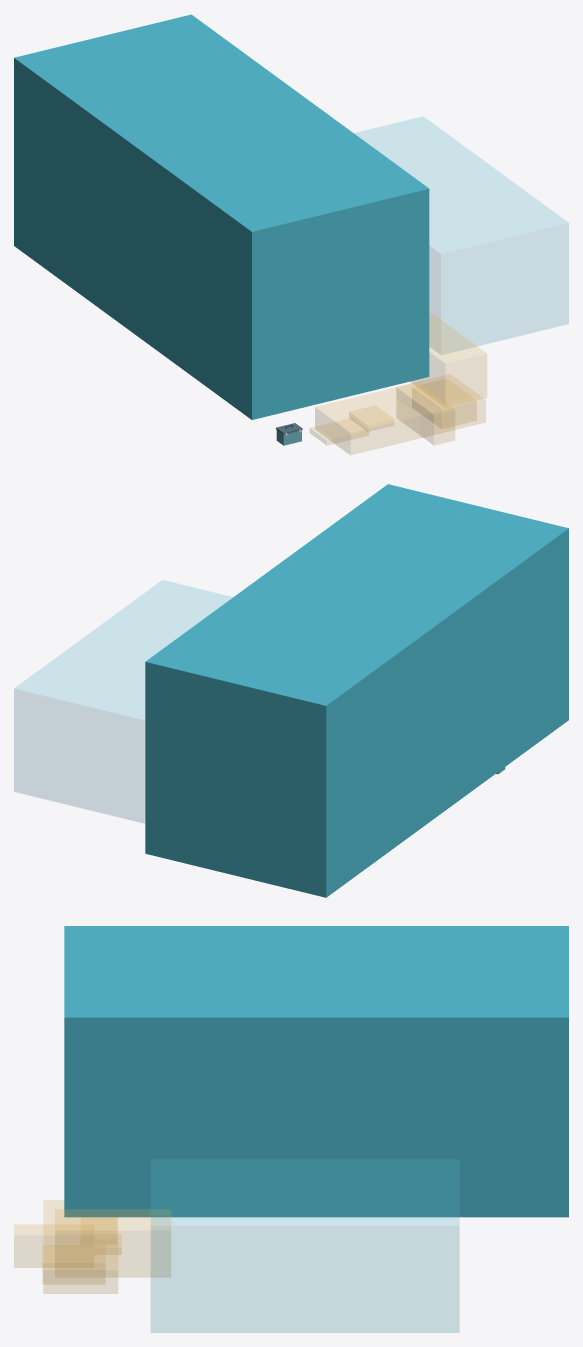
The model's file is twin-laboratory-asset-scene.gltf.
3 renders of one model, top to bottom at view 1: azimuth 30°, elevation 25°; view 2: azimuth 150°, elevation 25°; view 3: azimuth 270°, elevation 25°, orthographic. The views are drawn at different scales.
Visible parts, largest first — view 1: EQ-0002 광학 현미경, EQ-0008 시험관 보관대, EQ-0001 실험 작업대, EQ-0004 오른쪽 삼각 플라스크, EQ-0003 중앙 비커, EQ-0005 오른쪽 비커, EQ-0007 핀셋, EQ-0006 배양 접시; view 2: EQ-0002 광학 현미경, EQ-0008 시험관 보관대; view 3: EQ-0002 광학 현미경, EQ-0008 시험관 보관대, EQ-0004 오른쪽 삼각 플라스크, EQ-0001 실험 작업대, EQ-0003 중앙 비커, EQ-0005 오른쪽 비커.
Part boxes in pixels (x1=…): EQ-0002 광학 현미경: x1=14, y1=14, x2=429, y2=419; EQ-0008 시험관 보관대: x1=354, y1=117, x2=568, y2=354; EQ-0001 실험 작업대: x1=315, y1=374, x2=485, y2=454; EQ-0004 오른쪽 삼각 플라스크: x1=411, y1=314, x2=486, y2=403; EQ-0003 중앙 비커: x1=396, y1=382, x2=454, y2=445; EQ-0005 오른쪽 비커: x1=412, y1=379, x2=476, y2=428; EQ-0007 핀셋: x1=310, y1=418, x2=368, y2=445; EQ-0006 배양 접시: x1=349, y1=406, x2=393, y2=430; EQ-0002 광학 현미경: x1=145, y1=484, x2=568, y2=897; EQ-0008 시험관 보관대: x1=14, y1=580, x2=232, y2=822; EQ-0002 광학 현미경: x1=64, y1=926, x2=568, y2=1217; EQ-0008 시험관 보관대: x1=151, y1=1159, x2=459, y2=1332; EQ-0004 오른쪽 삼각 플라스크: x1=55, y1=1209, x2=170, y2=1277; EQ-0001 실험 작업대: x1=43, y1=1200, x2=117, y2=1293; EQ-0003 중앙 비커: x1=14, y1=1224, x2=93, y2=1267; EQ-0005 오른쪽 비커: x1=42, y1=1245, x2=104, y2=1283.
Size of the model in its own units: 2.42 by 1.55 by 3.06.
